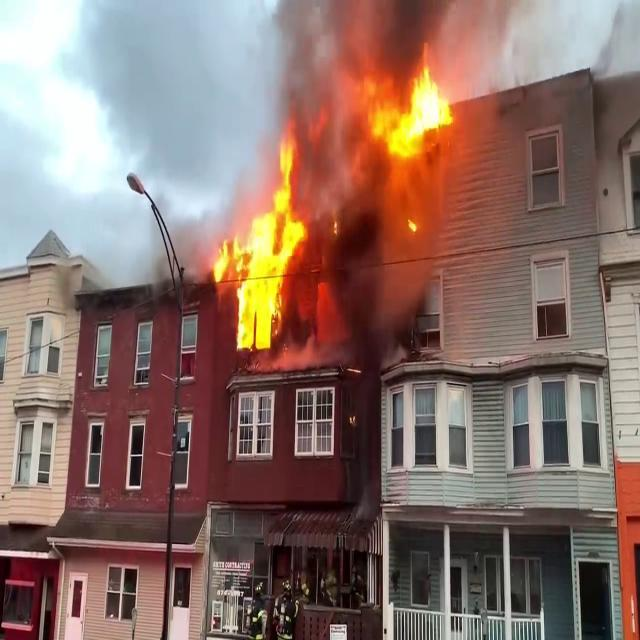Fire: (209, 134, 313, 358), (355, 54, 459, 162)
Smoke: (236, 0, 442, 185)
